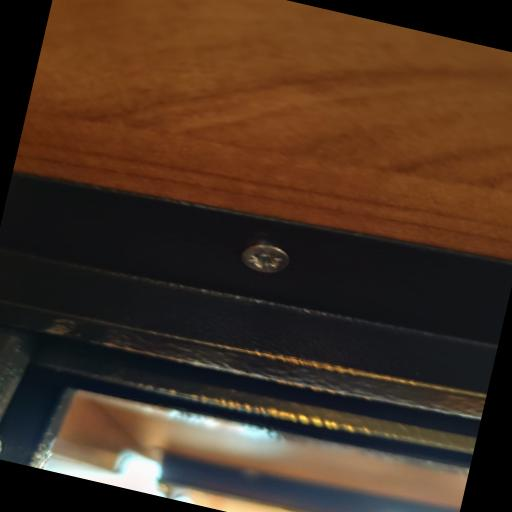Pozidriv: (234, 228, 299, 286)
